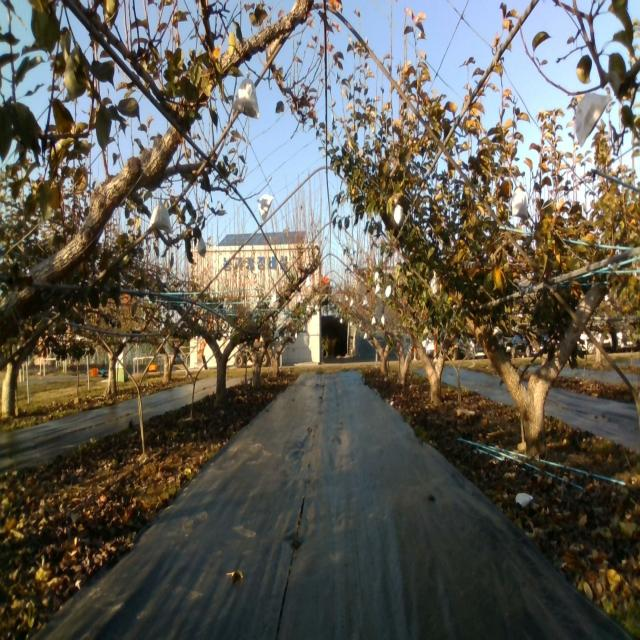pearbags: (574, 91, 610, 148), (232, 72, 260, 120), (148, 198, 172, 233), (512, 187, 528, 219), (257, 194, 274, 222), (392, 204, 404, 230)
